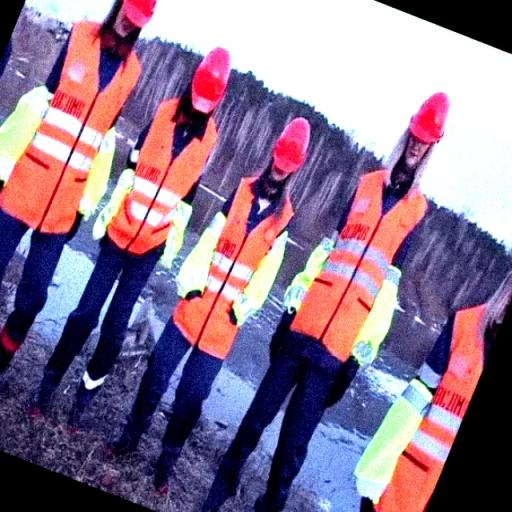Person: (270, 69, 466, 491), (4, 2, 166, 390), (86, 58, 216, 428), (193, 105, 318, 482)
boots: (103, 406, 148, 463), (69, 365, 105, 435), (35, 356, 67, 425), (148, 438, 178, 500), (2, 310, 22, 380)
helmet: (189, 46, 235, 116), (268, 114, 313, 179), (407, 90, 455, 144), (120, 1, 154, 32)
vest: (357, 305, 507, 507), (4, 25, 142, 240), (282, 172, 436, 359), (178, 170, 297, 354), (93, 96, 218, 259)
